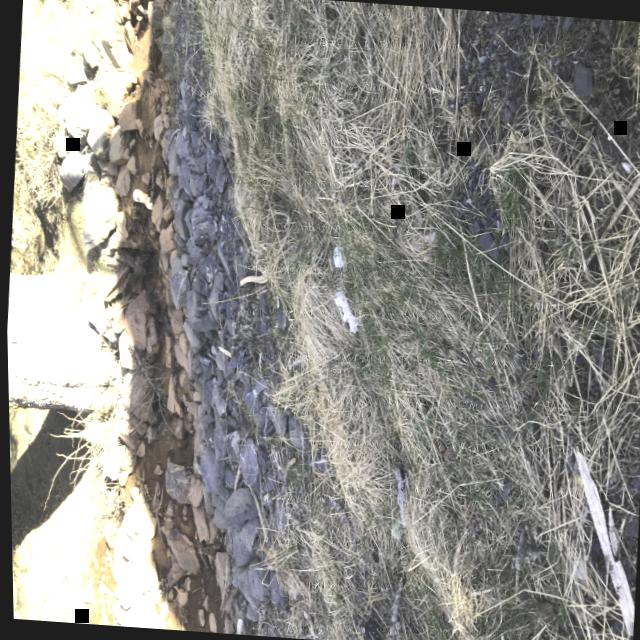Other plastic: (330, 247, 341, 267)
Other plastic bottle: (130, 188, 150, 210)
Unlabeled litter: (331, 287, 356, 332)
